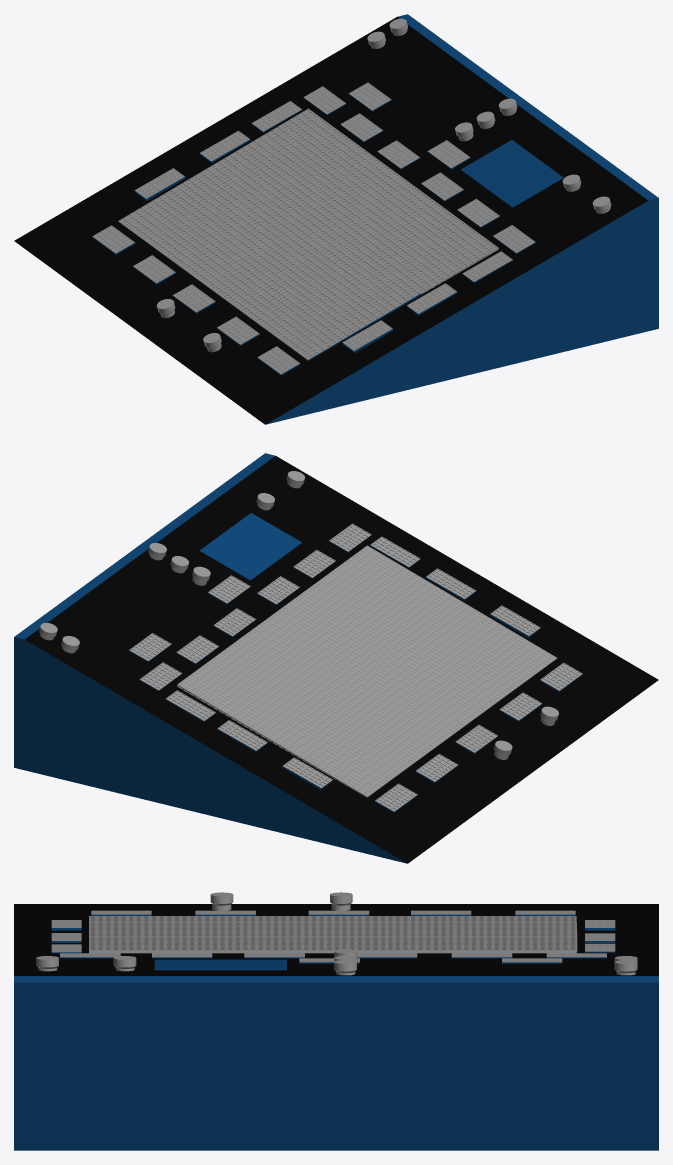
The model's file is obiect_ed.fbx.
The picture shows the model from 3 angles, top to bottom: view 1: azimuth 30°, elevation 25°; view 2: azimuth 150°, elevation 25°; view 3: azimuth 270°, elevation 25°; orthographic projection. The views are drawn at different scales.
Parts seen in each view (by area): view 1: Cube.008; view 2: Cube.008; view 3: Cube.008.
Part boxes in pixels (bbox=[...]): Cube.008: bbox=[14, 14, 658, 424]; Cube.008: bbox=[14, 453, 658, 863]; Cube.008: bbox=[14, 892, 658, 1150].
Size of the model in its own units: 219 by 85.96 by 242.
